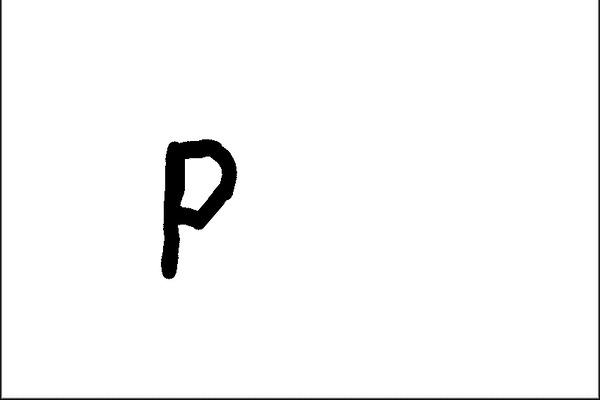P: (145, 131, 250, 287)
